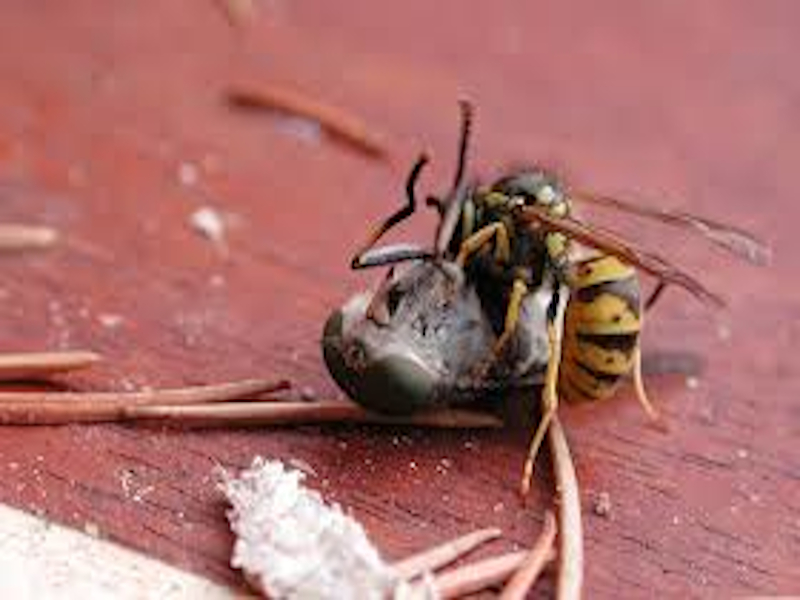chax: (458, 136, 793, 489)
